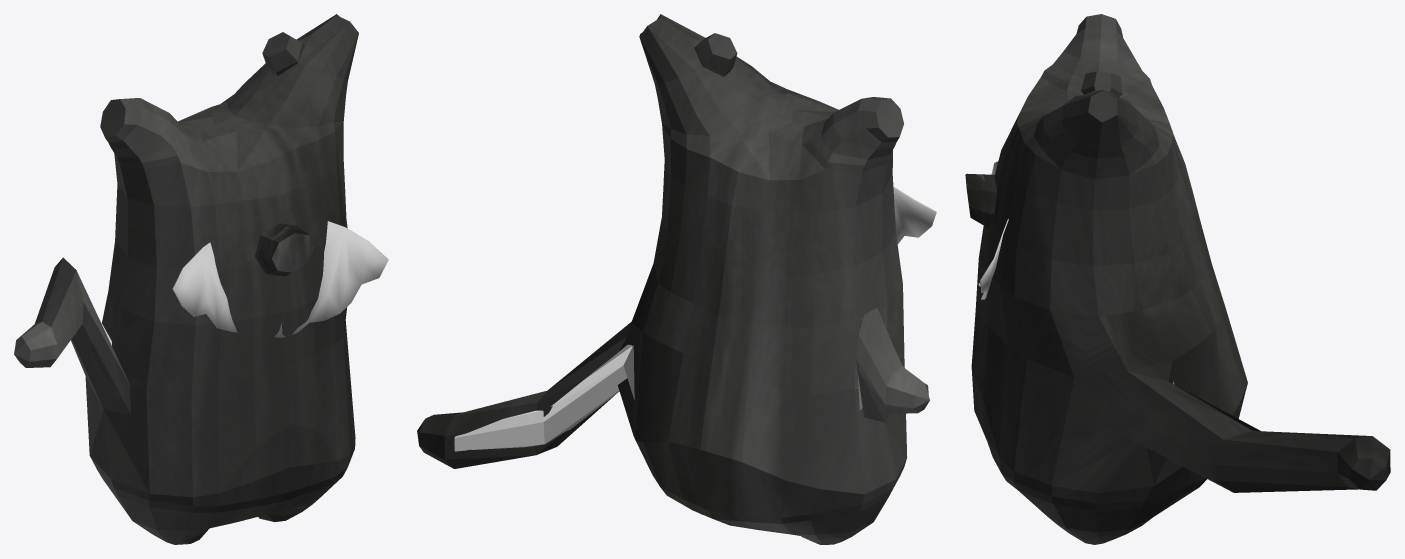
File: frame_0043.obj
3 renders of one model, left to right at view 1: azimuth 30°, elevation 25°; view 2: azimuth 150°, elevation 25°; view 3: azimuth 270°, elevation 25°, orthographic.
Visible parts, largest first — view 1: korok, leaf, nose; view 2: korok, leaf; view 3: korok, nose, leaf.
Part boxes in pixels (x1,y1,x2,y2): korok: (14,14,358,544); leaf: (172,221,388,337); nose: (255,223,313,276); korok: (417,14,929,544); leaf: (893,186,936,244); korok: (971,14,1390,544); nose: (965,173,996,227); leaf: (978,161,1008,299).
Bounding box in the file's own units: 1.96 × 2.25 × 1.8.
